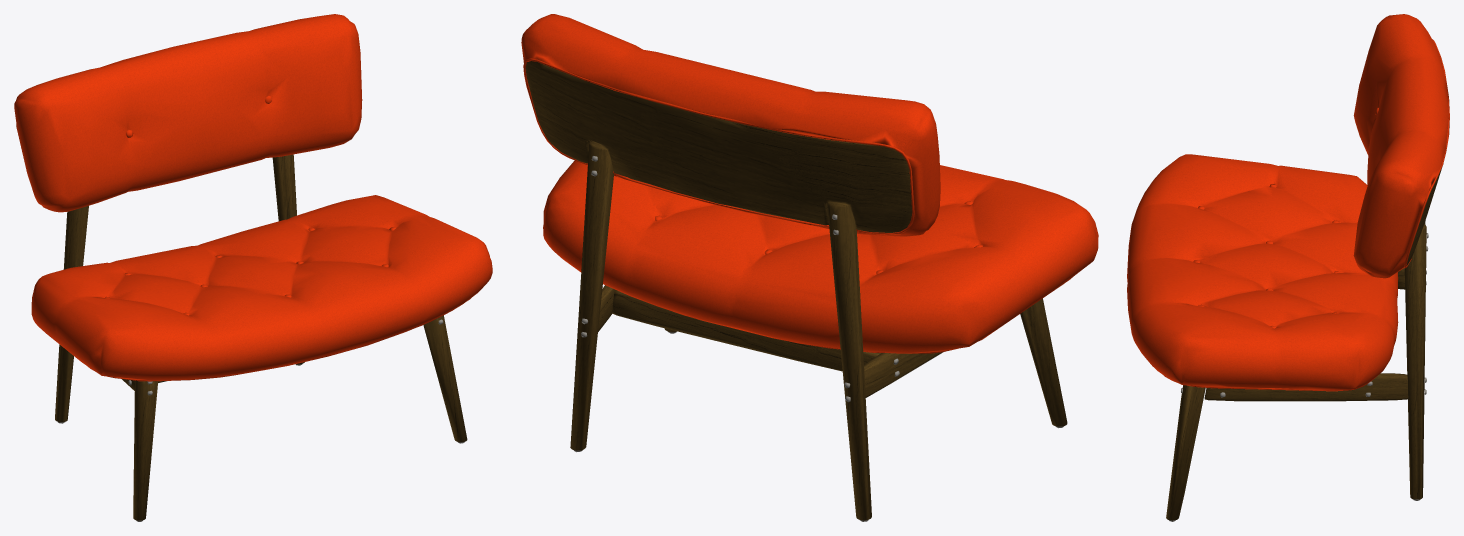
The model's file is sheen_chair.lod1.glb.
3 views of the same model, side by side, from view 1: azimuth 30°, elevation 25°; view 2: azimuth 150°, elevation 25°; view 3: azimuth 270°, elevation 25° (orthographic). The views are drawn at different scales.
Parts seen in each view (by area): view 1: SheenChair_fabric, SheenChair_wood; view 2: SheenChair_fabric, SheenChair_wood; view 3: SheenChair_fabric, SheenChair_wood.
Boxes of the visible parts, bbox=[...] form: SheenChair_fabric: bbox=[14, 14, 492, 381]; SheenChair_wood: bbox=[55, 154, 467, 520]; SheenChair_fabric: bbox=[521, 14, 1098, 353]; SheenChair_wood: bbox=[525, 61, 1067, 520]; SheenChair_fabric: bbox=[1127, 14, 1449, 391]; SheenChair_wood: bbox=[1166, 168, 1441, 520].
Bounding box in the file's own units: 0.8263 × 0.6855 × 0.57.
4 materials, 3 textured.
